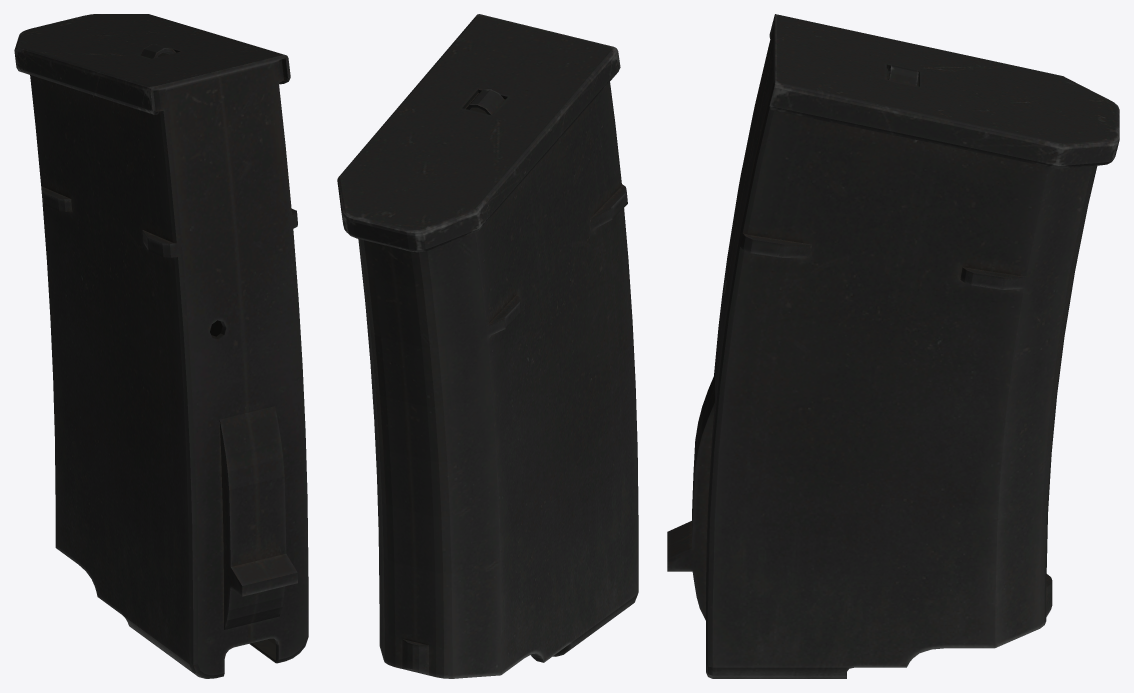
3 renders of one model, left to right at view 1: azimuth 30°, elevation 25°; view 2: azimuth 150°, elevation 25°; view 3: azimuth 270°, elevation 25°, orthographic. The views are drawn at different scales.
Parts seen in each view (by area): view 1: TW_5caf1041ae92157c28402e3f_PZ_Import; view 2: TW_5caf1041ae92157c28402e3f_PZ_Import; view 3: TW_5caf1041ae92157c28402e3f_PZ_Import.
Boxes of the visible parts, x1,y1,x2,y2 form: TW_5caf1041ae92157c28402e3f_PZ_Import: [14, 14, 308, 678]; TW_5caf1041ae92157c28402e3f_PZ_Import: [337, 14, 638, 678]; TW_5caf1041ae92157c28402e3f_PZ_Import: [667, 14, 1119, 678].
Bounding box in the file's own units: 0.0226 × 0.0605 × 0.0901.
Materials: 1 (1 with a texture image).
